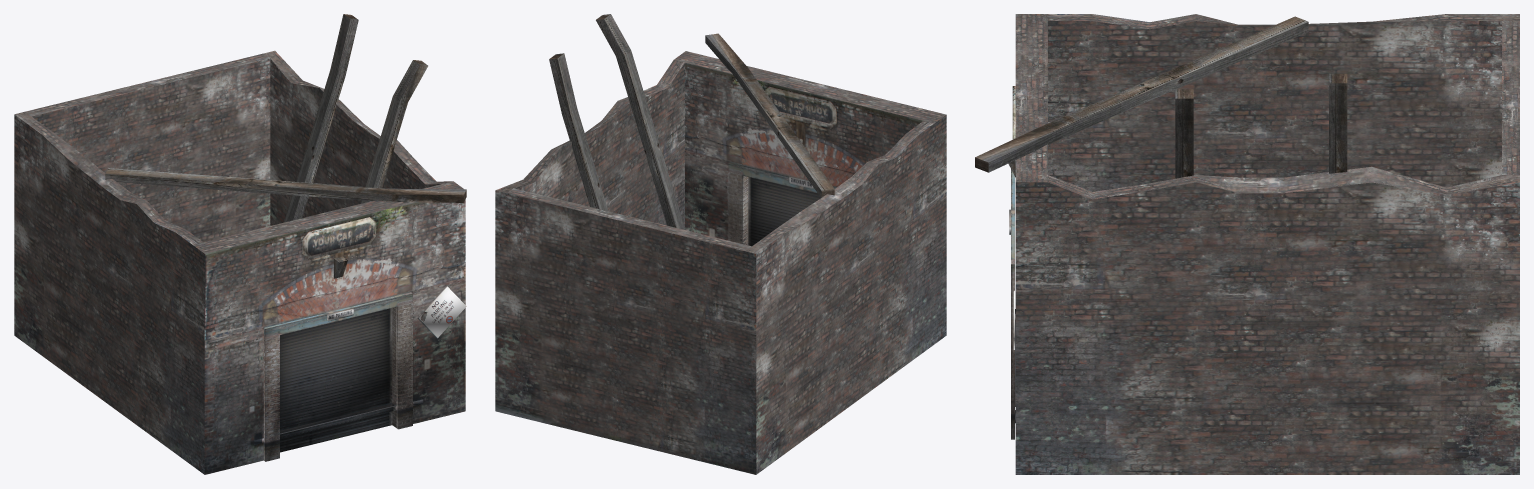
Rendered from war_torn14.obj.
3 views of the same model, side by side, from view 1: azimuth 30°, elevation 25°; view 2: azimuth 150°, elevation 25°; view 3: azimuth 270°, elevation 25° (orthographic). The views are drawn at different scales.
Visible parts, largest first — view 1: worn_torn14; view 2: worn_torn14; view 3: worn_torn14.
Boxes of the visible parts, box(x1,y1,x2,y2) form: worn_torn14: box(14, 14, 466, 474); worn_torn14: box(495, 14, 946, 474); worn_torn14: box(975, 14, 1519, 474).
Bounding box in the file's own units: 293 × 300 × 368.
Materials: 1 (1 with a texture image).
